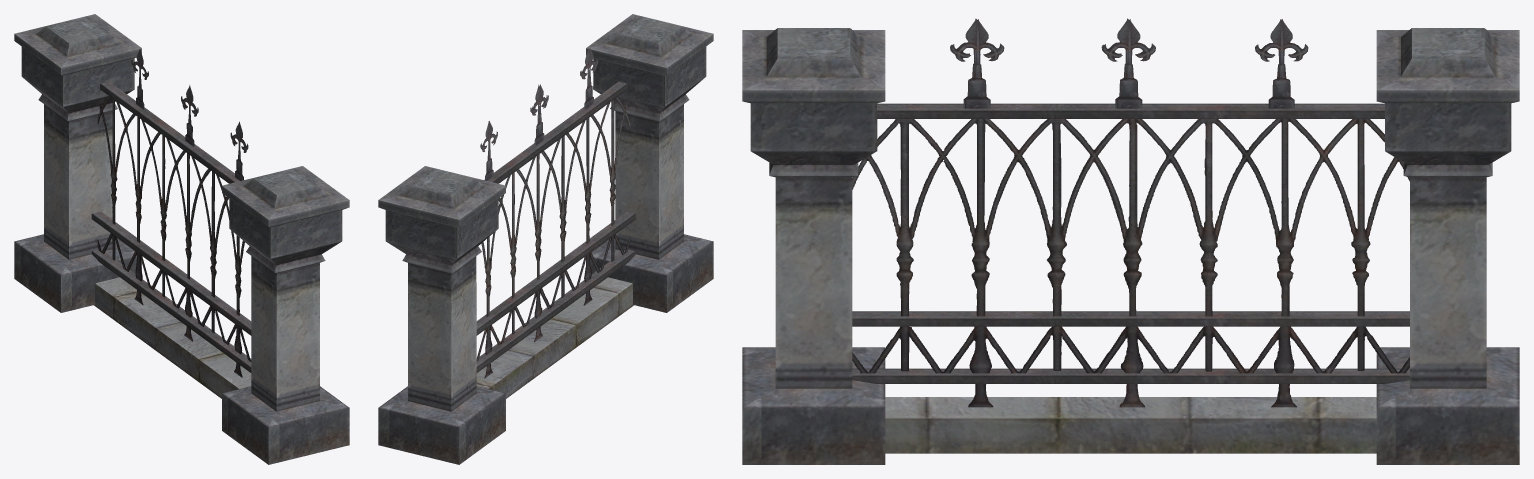
The model's file is bg_lut_lucastle_monument04b_sm_artree.FBX.
The picture shows the model from 3 angles, left to right: view 1: azimuth 30°, elevation 25°; view 2: azimuth 150°, elevation 25°; view 3: azimuth 270°, elevation 25°; orthographic projection. The views are drawn at different scales.
Visible parts, largest first — view 1: bg_lut_lucastle_monument04b_sm_artree; view 2: bg_lut_lucastle_monument04b_sm_artree; view 3: bg_lut_lucastle_monument04b_sm_artree.
Part boxes in pixels (box(x1,y1,x2,y2)): bg_lut_lucastle_monument04b_sm_artree: box(14, 14, 349, 464); bg_lut_lucastle_monument04b_sm_artree: box(378, 14, 713, 464); bg_lut_lucastle_monument04b_sm_artree: box(742, 18, 1519, 464).
Size of the model in its own units: 27.99 by 92.41 by 152.
